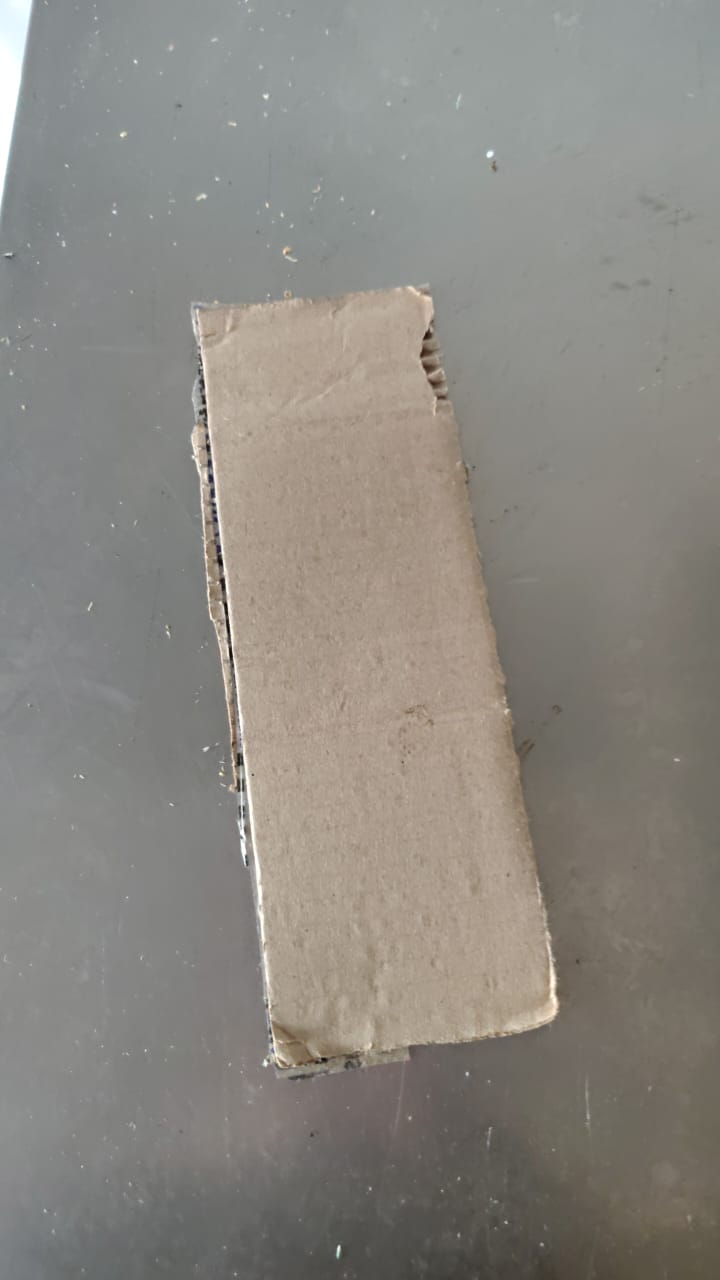Carton: (195, 286, 564, 1082)
